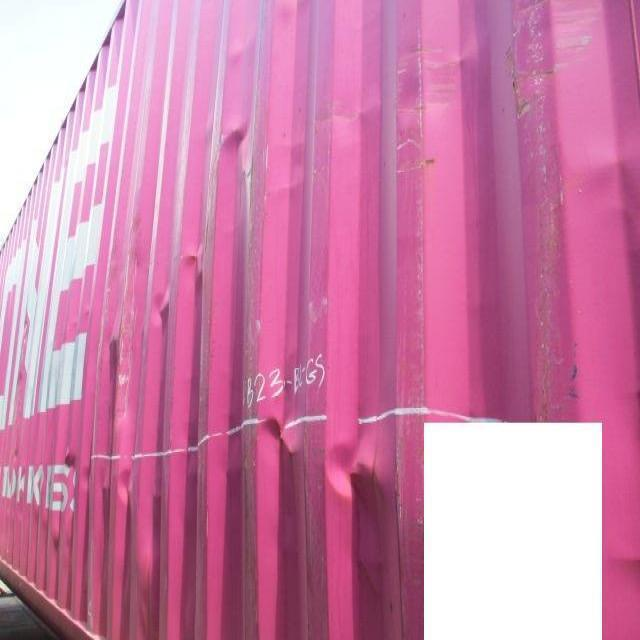dent: (256, 397, 405, 568), (97, 233, 217, 393), (87, 454, 168, 640)
